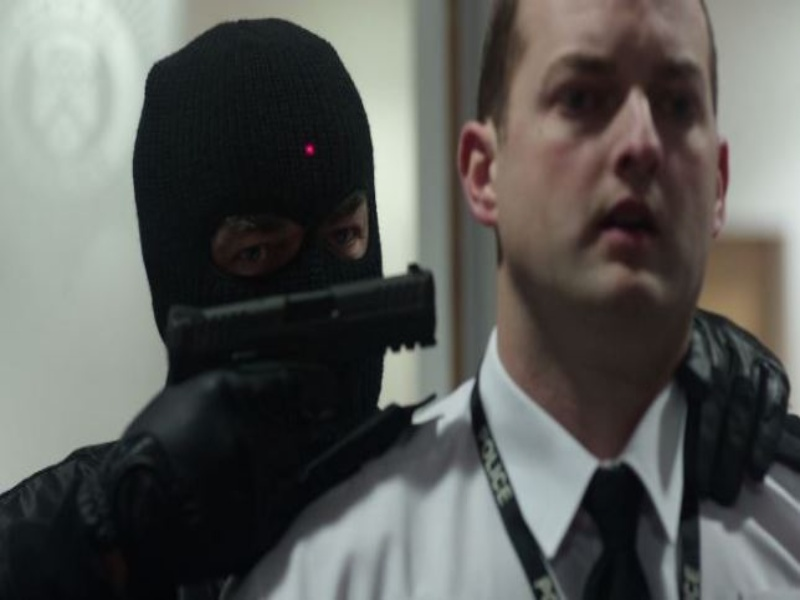balaclava: (132, 20, 384, 379)
gun: (164, 264, 437, 372)
person: (370, 1, 799, 600), (1, 17, 399, 600)
